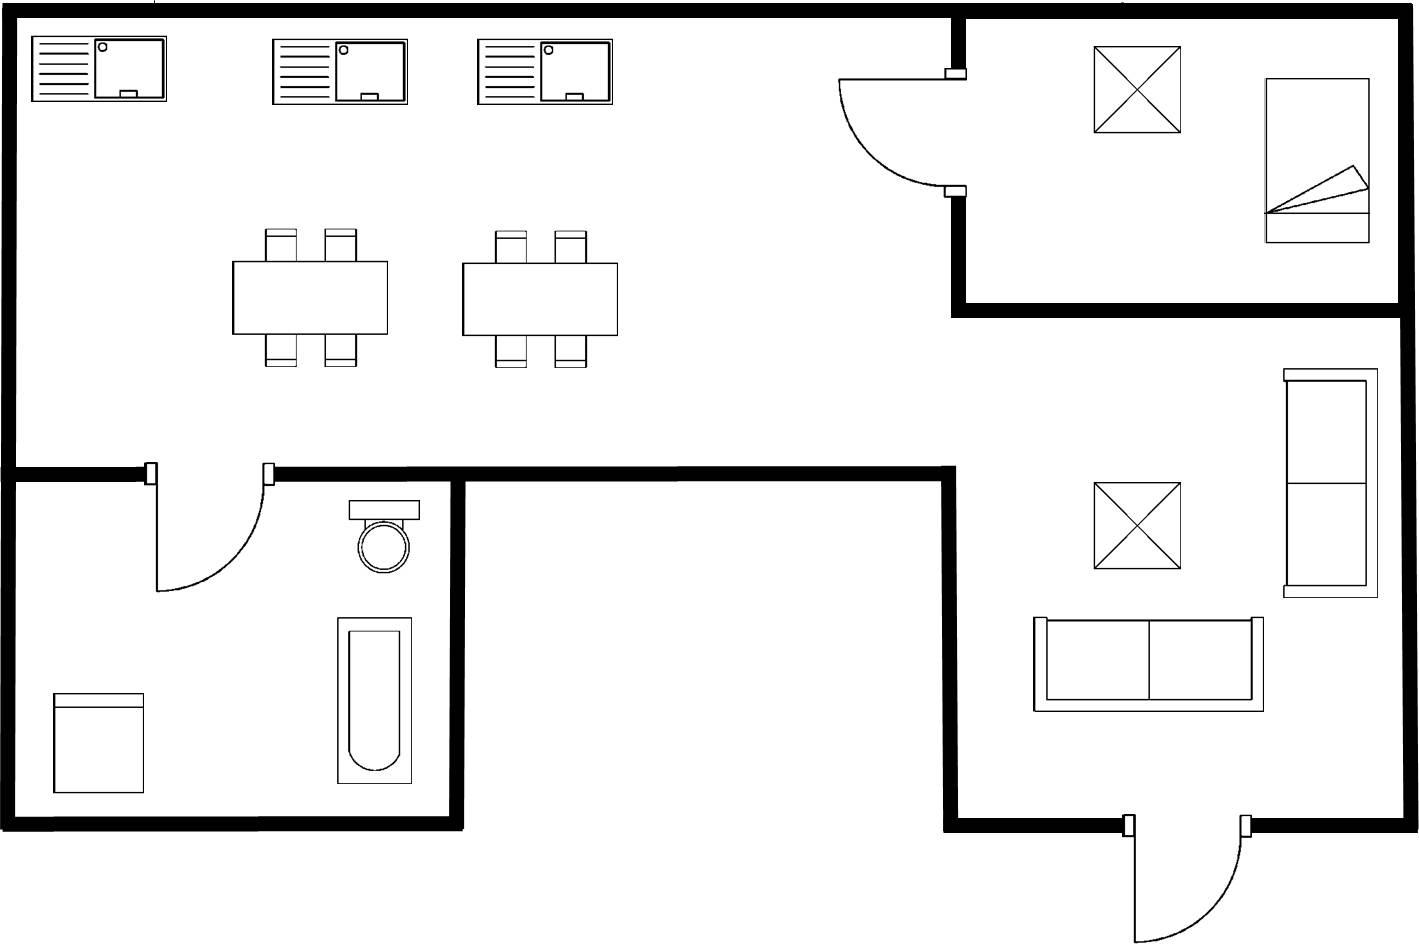bed: (1257, 72, 1374, 249)
dining_table: (226, 222, 395, 373), (455, 222, 623, 373)
sink: (23, 28, 174, 113), (264, 31, 414, 110), (469, 33, 619, 110)
sofa: (1024, 611, 1268, 719), (1277, 362, 1383, 602)
toilet: (340, 495, 426, 576)
tub: (331, 610, 419, 789)
